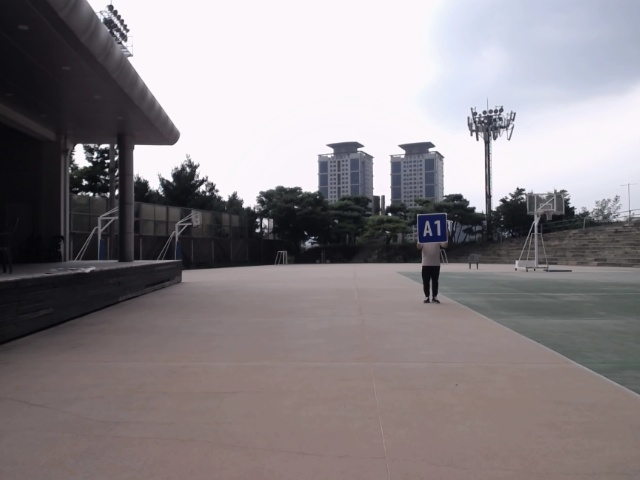delivery_a1: (417, 214, 447, 244)
